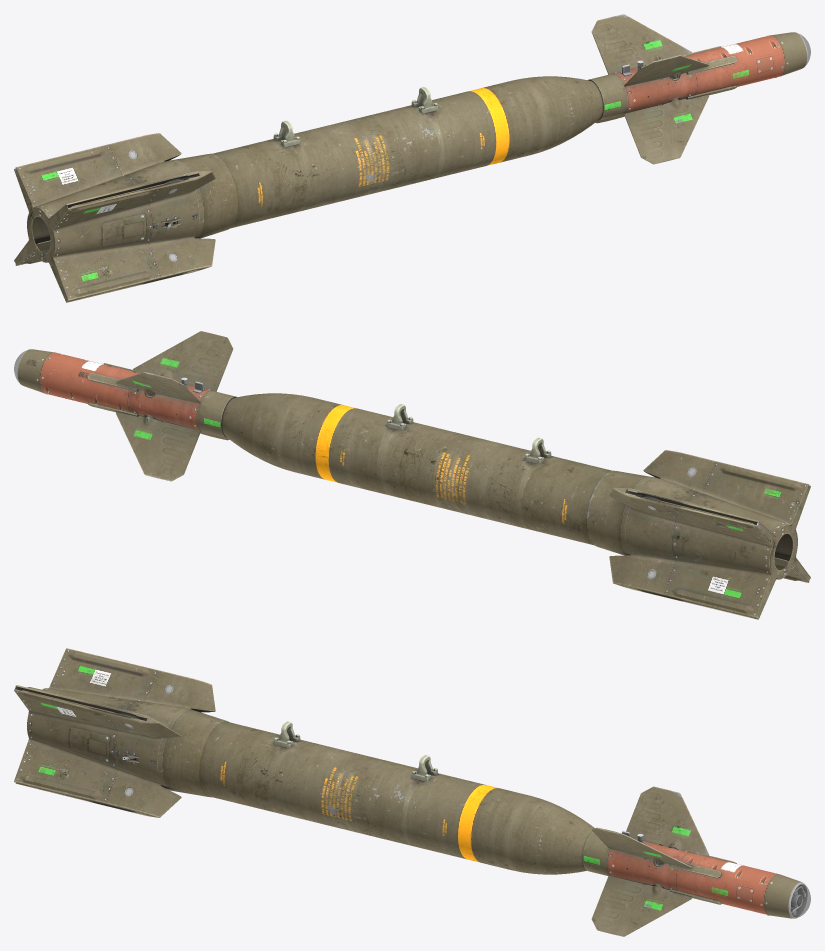
File: gbu-27_paveway_iii_lgb.glb
3 renders of one model, top to bottom at view 1: azimuth 30°, elevation 25°; view 2: azimuth 150°, elevation 25°; view 3: azimuth 330°, elevation 25°, orthographic.
Visible parts, largest first — view 1: Object_2; view 2: Object_2; view 3: Object_2, Object_4.
Part boxes in pixels (box(x1,y1,x2,y2)): Object_2: box(14, 14, 807, 302); Object_2: box(17, 331, 810, 619); Object_2: box(14, 648, 807, 936); Object_4: box(789, 882, 810, 918).
Bounding box in the file's own units: 4.24 × 0.5519 × 0.5455.
2 materials, 1 textured.
